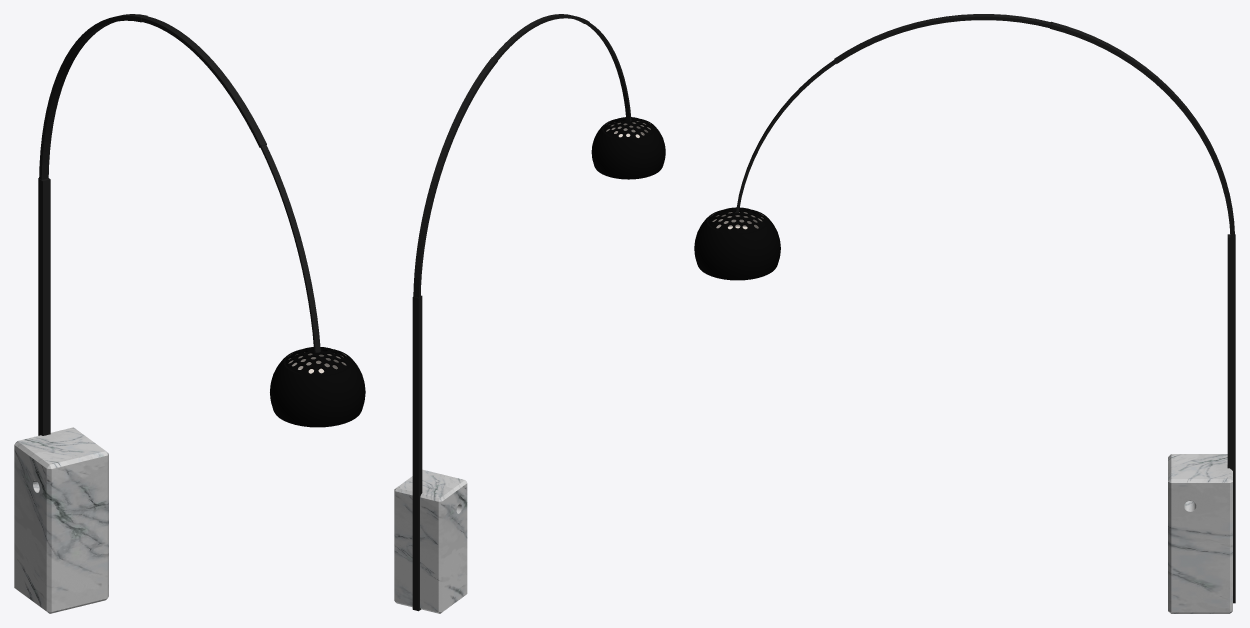
The model's file is arcoFloorLamp.obj.
3 renders of one model, left to right at view 1: azimuth 30°, elevation 25°; view 2: azimuth 150°, elevation 25°; view 3: azimuth 270°, elevation 25°, orthographic. The views are drawn at different scales.
Parts seen in each view (by area): view 1: marble, Arc, sphere; view 2: marble, Arc, sphere; view 3: marble, Arc, sphere.
Boxes of the visible parts, x1,y1,x2,y2 form: marble: [14, 427, 108, 613]; Arc: [38, 14, 320, 435]; sphere: [270, 347, 365, 427]; marble: [394, 469, 467, 613]; Arc: [412, 14, 631, 611]; sphere: [591, 117, 665, 179]; marble: [1168, 454, 1232, 613]; Arc: [736, 14, 1235, 603]; sphere: [694, 207, 780, 280].
Size of the model in its own units: 32 by 239 by 200.
Materials: 4 (1 with a texture image).
